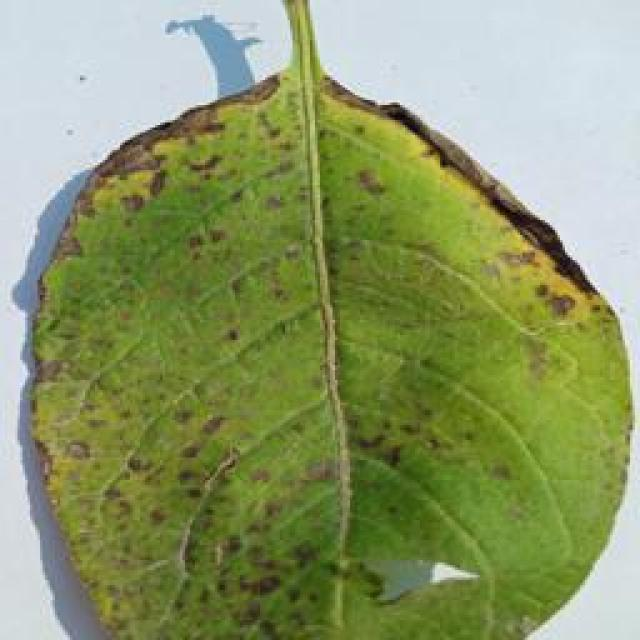Potato_Early_Blight: (32, 62, 638, 640)
